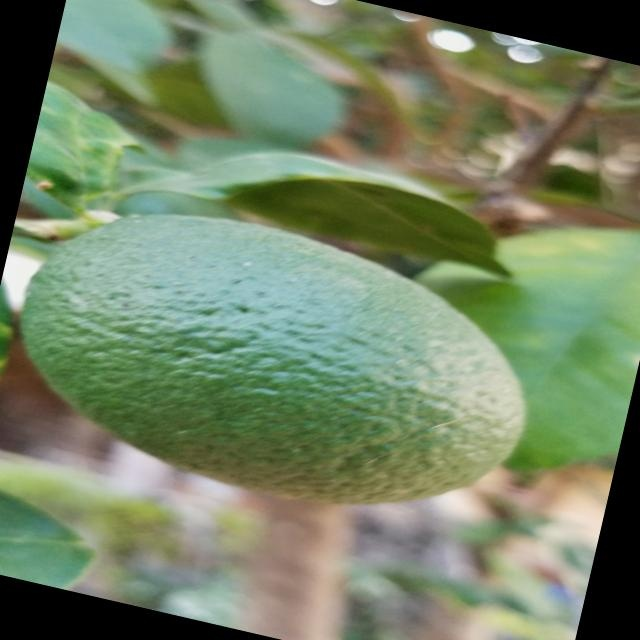agrume: (0, 173, 576, 555)
